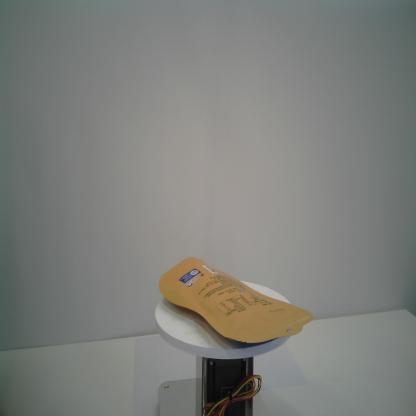Dried Fruit: (159, 257, 314, 344)
